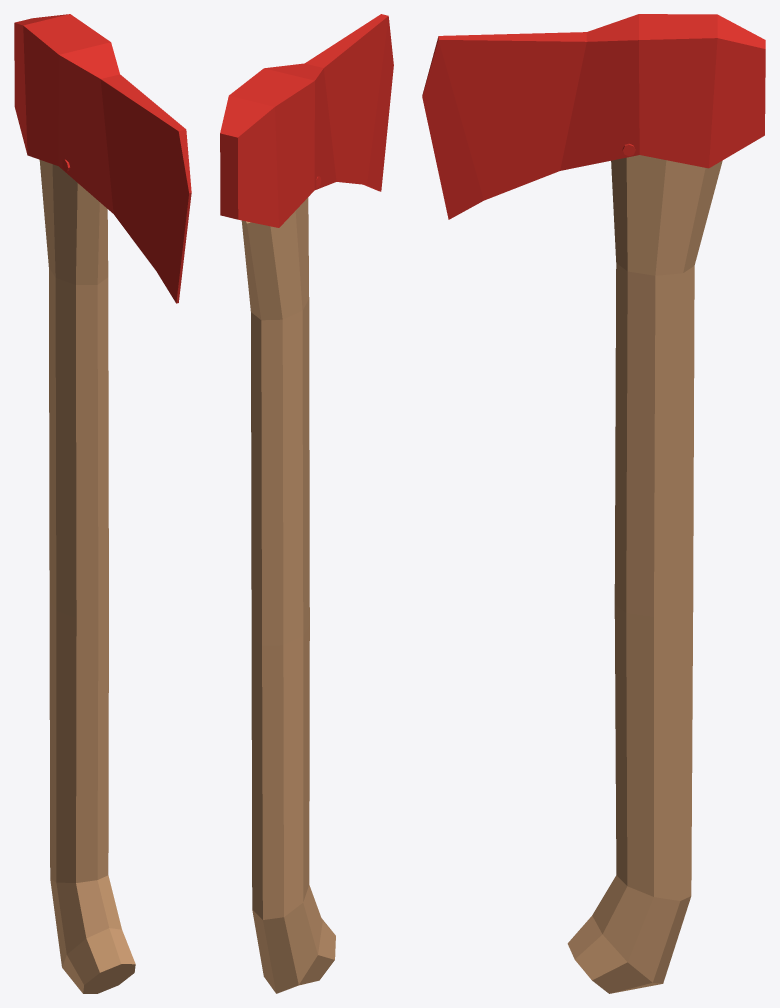
Rendered from Axe.fbx.
3 renders of one model, left to right at view 1: azimuth 30°, elevation 25°; view 2: azimuth 150°, elevation 25°; view 3: azimuth 270°, elevation 25°, orthographic. The views are drawn at different scales.
Visible parts, largest first — view 1: Cube; view 2: Cube; view 3: Cube.
Boxes of the visible parts, x1,y1,x2,y2 form: Cube: (14, 14, 191, 993); Cube: (220, 14, 393, 993); Cube: (422, 14, 765, 993).
Size of the model in its own units: 63.69 by 1081 by 349.
